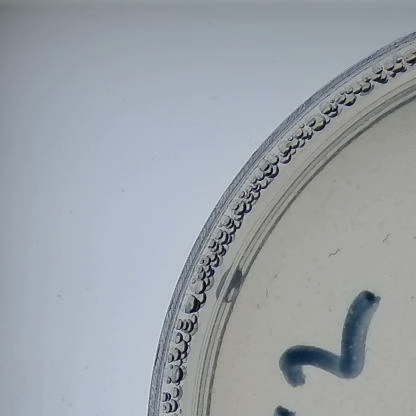worm: (325, 247, 344, 259), (377, 231, 393, 244)
